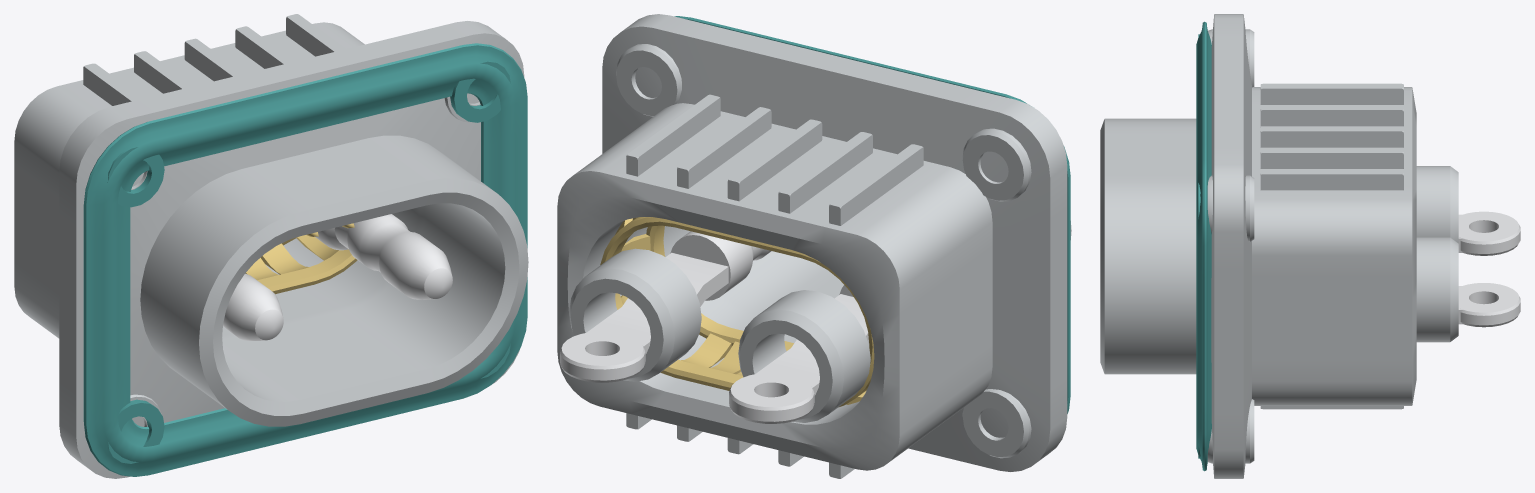
Rendered from power-distribution.glb.
3 renders of one model, left to right at view 1: azimuth 30°, elevation 25°; view 2: azimuth 150°, elevation 25°; view 3: azimuth 270°, elevation 25°, orthographic. The views are drawn at different scales.
Visible parts, largest first — view 1: Diecast_Flange_Housing, Flange_Gasket, High_Current_Busbars, EMC_Shield_Collar; view 2: Diecast_Flange_Housing, High_Current_Busbars, EMC_Shield_Collar, Flange_Gasket; view 3: Diecast_Flange_Housing, Flange_Gasket, High_Current_Busbars.
Boxes of the visible parts, box(x1,y1,x2,y2) form: Diecast_Flange_Housing: box(14, 14, 528, 478); Flange_Gasket: box(83, 43, 527, 476); High_Current_Busbars: box(223, 214, 452, 340); EMC_Shield_Collar: box(245, 235, 357, 294); Diecast_Flange_Housing: box(557, 14, 1071, 478); High_Current_Busbars: box(560, 231, 869, 423); EMC_Shield_Collar: box(600, 217, 874, 406); Flange_Gasket: box(674, 16, 1070, 413); Diecast_Flange_Housing: box(1100, 14, 1458, 478); Flange_Gasket: box(1196, 21, 1211, 471); High_Current_Busbars: box(1458, 211, 1520, 327).
Size of the model in its own units: 2.4 by 1.83 by 2.26.
